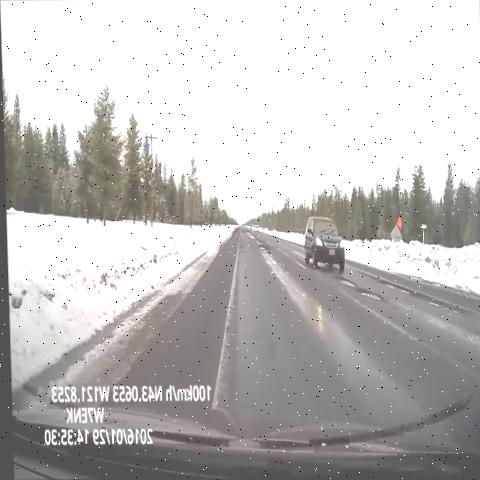pothole: (420, 291, 466, 325), (372, 275, 414, 300), (328, 261, 357, 296), (354, 286, 385, 312), (238, 224, 260, 248), (252, 238, 270, 258)
